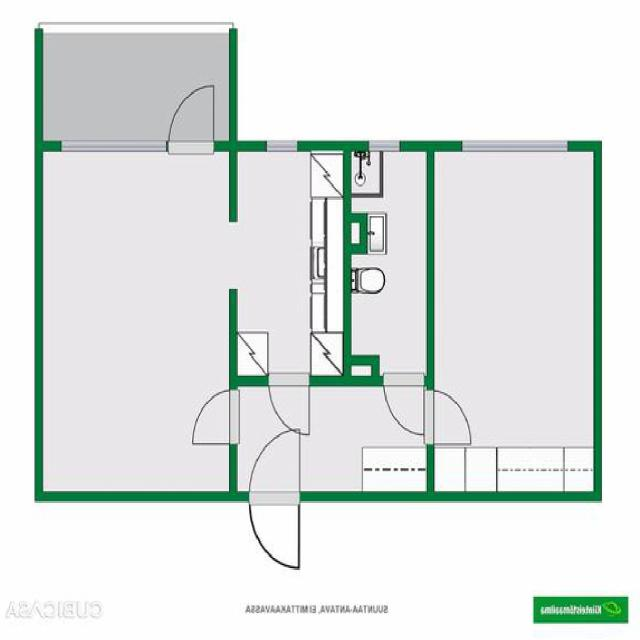door: (250, 491, 300, 567), (250, 424, 300, 500), (169, 81, 214, 151), (384, 375, 424, 439), (269, 375, 309, 438), (428, 391, 474, 444), (190, 391, 236, 444)
